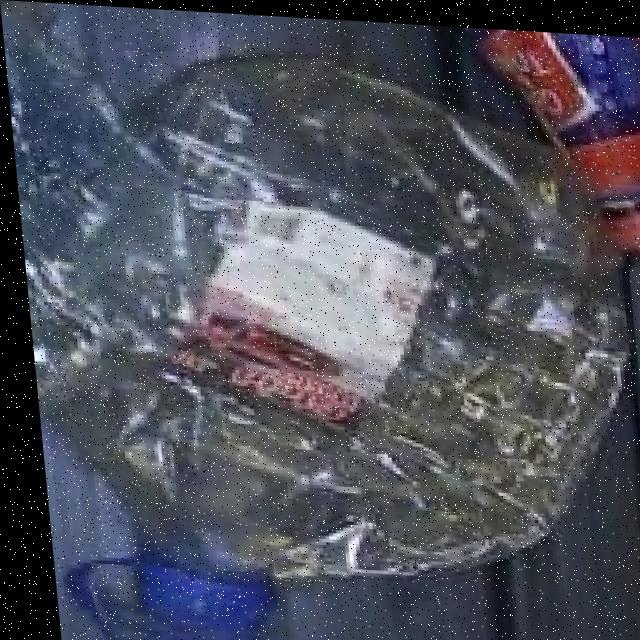plasticbottlecap: (79, 563, 277, 640), (591, 190, 640, 263)
